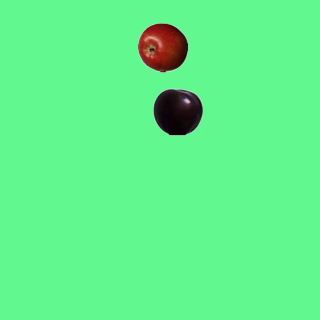Apple Braeburn: (137, 22, 187, 72)
Cherry Wax Black: (152, 86, 202, 136)
